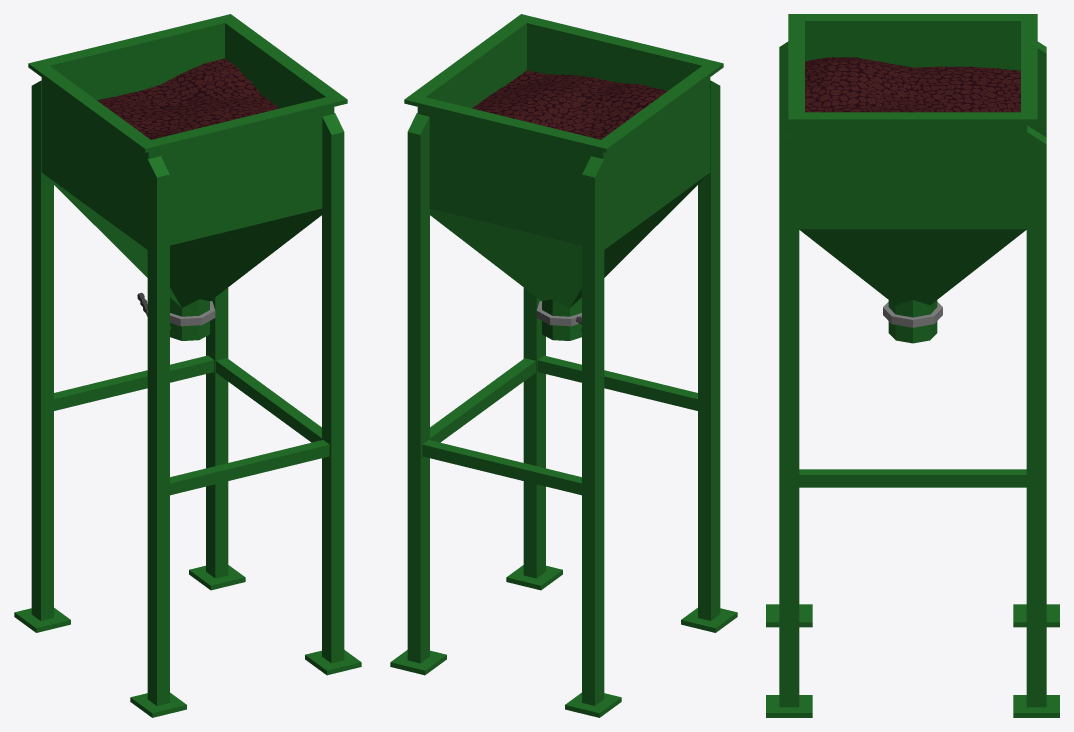
File: hopper.glb
The picture shows the model from 3 angles, left to right: view 1: azimuth 30°, elevation 25°; view 2: azimuth 150°, elevation 25°; view 3: azimuth 270°, elevation 25°; orthographic projection. The views are drawn at different scales.
Visible parts, largest first — view 1: Plane; view 2: Plane; view 3: Plane.
Part boxes in pixels (x1,y1,x2,y2): Plane: (14,14,361,717); Plane: (390,14,737,717); Plane: (766,14,1059,717).
Size of the model in its own units: 2.07 by 5.29 by 2.36.
4 materials, 1 textured.
